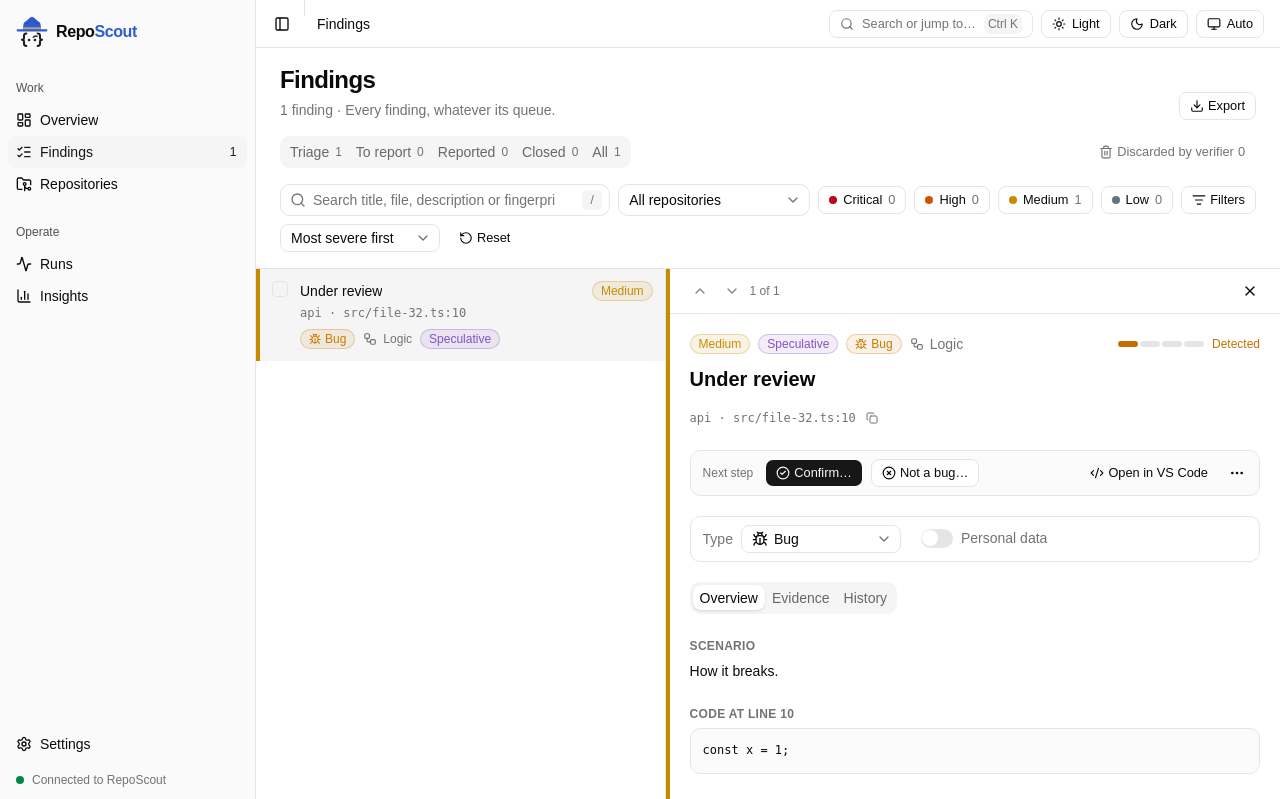
Test case: the Not a bug dialog › offers only Refute on a speculative candidate
This screenshot has width=1280, height=799.
What coordinates should you click on to do the following:
click the button "Not a bug…"
I would click on:
 (925, 472)
Its box is [871,458,979,486].
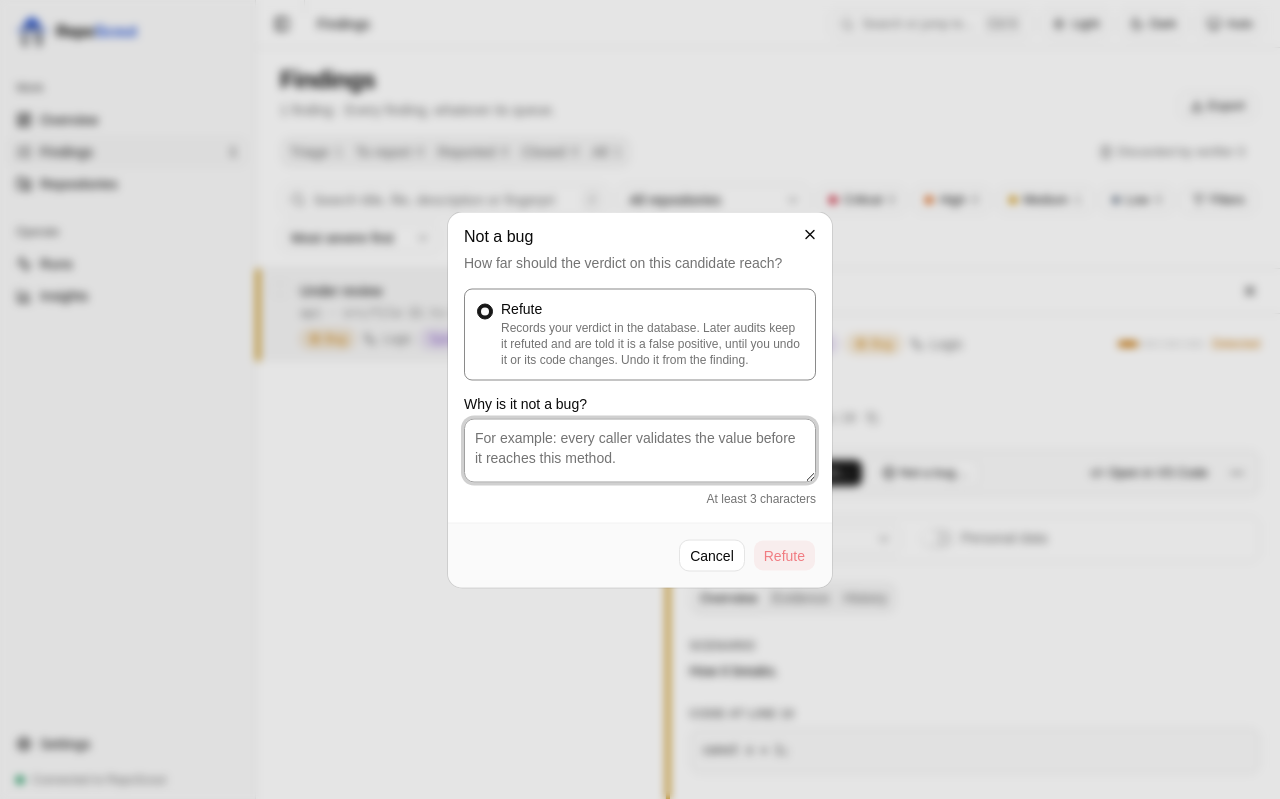
Result: the radio button named "Refute" is shown at [477,304,493,320]
